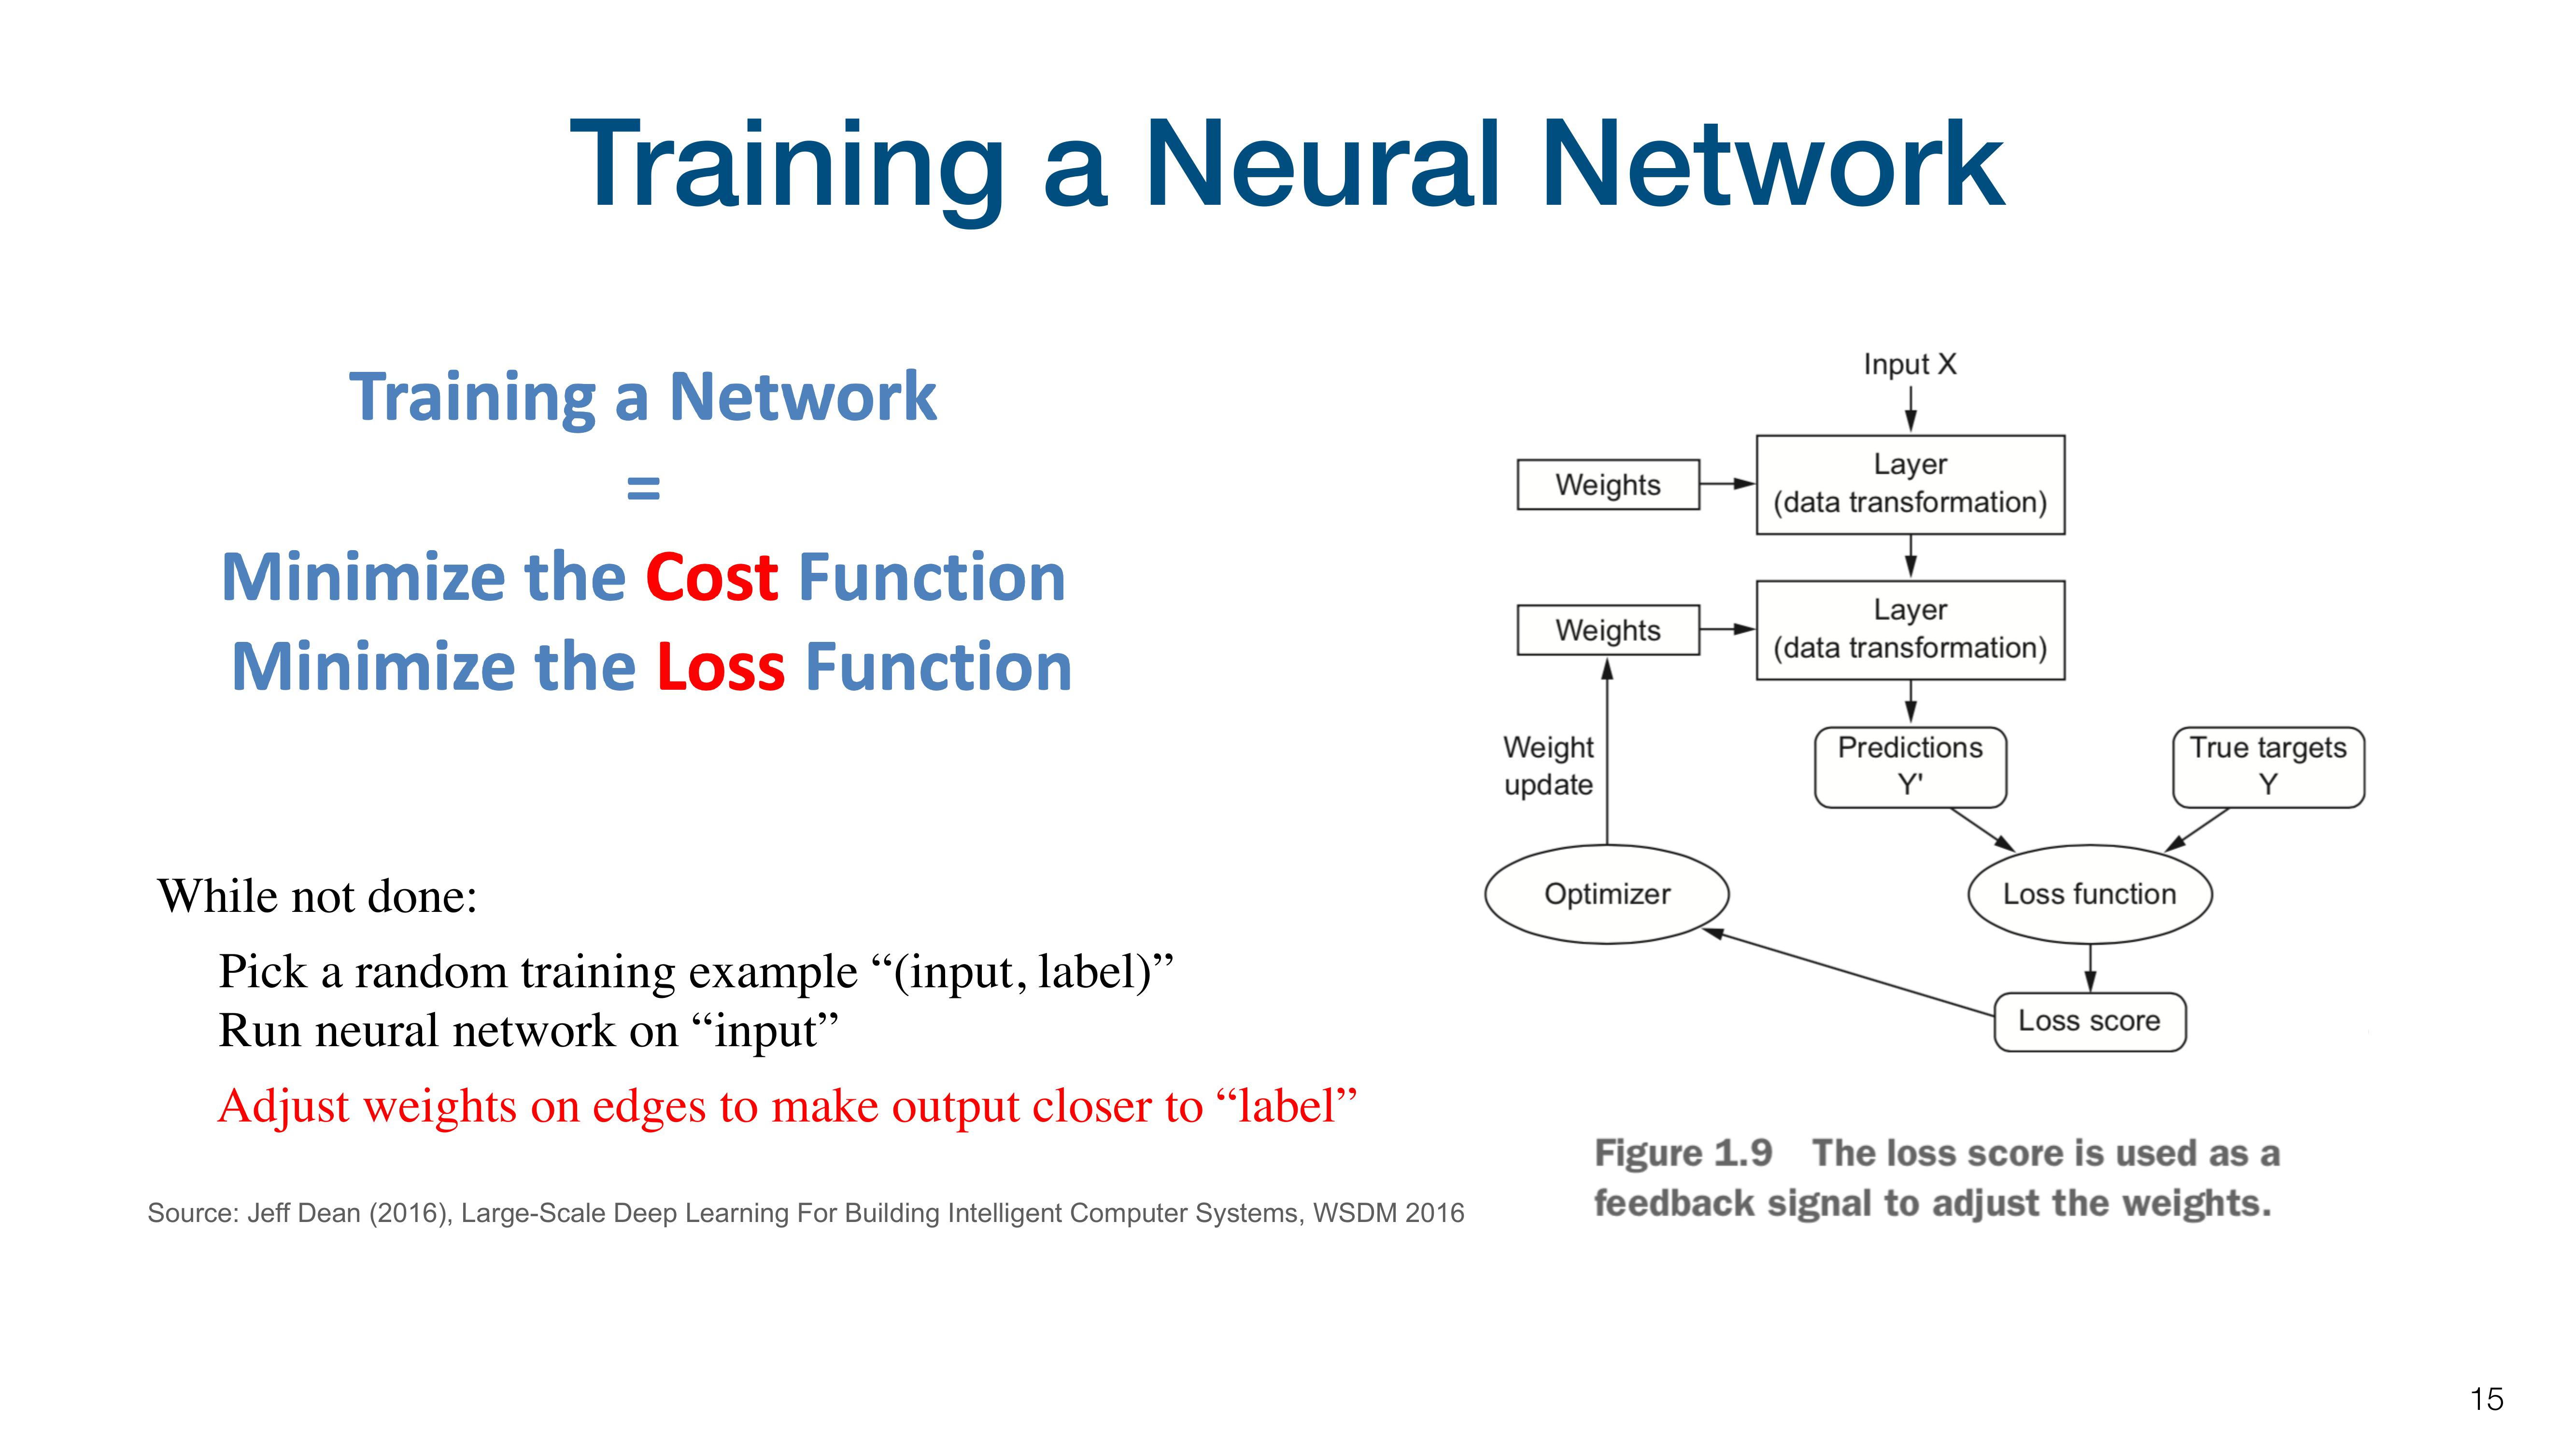Title: (534, 96, 2035, 242)
